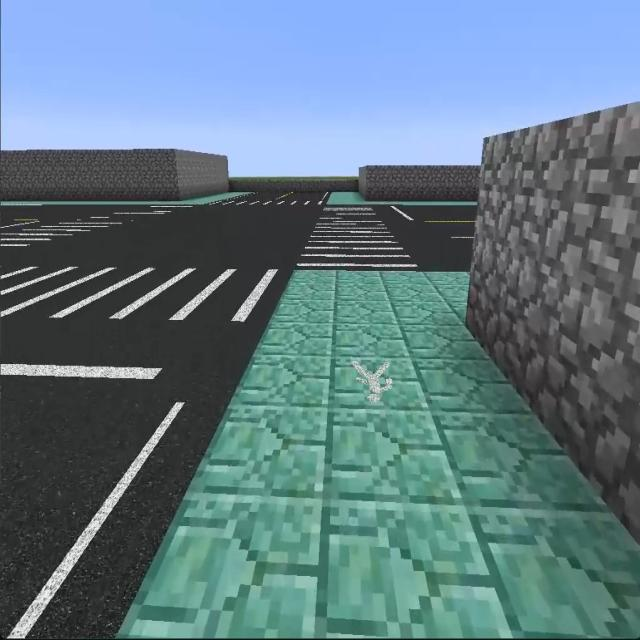crosswalk: (5, 263, 287, 344), (0, 206, 193, 264), (294, 205, 423, 271), (205, 195, 325, 210)
road: (2, 328, 246, 630), (7, 210, 315, 265), (389, 209, 476, 265)
sidewalk: (128, 264, 631, 639), (0, 192, 249, 208), (326, 191, 476, 207)
